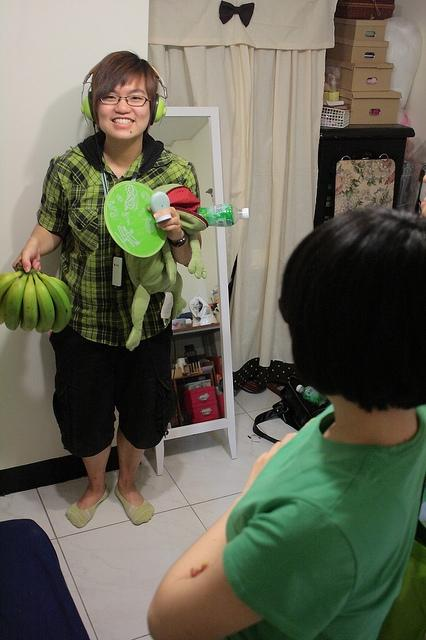banana: (36, 270, 72, 333), (30, 266, 54, 334), (4, 272, 28, 330), (20, 272, 38, 332), (0, 270, 22, 304), (50, 276, 72, 302)
